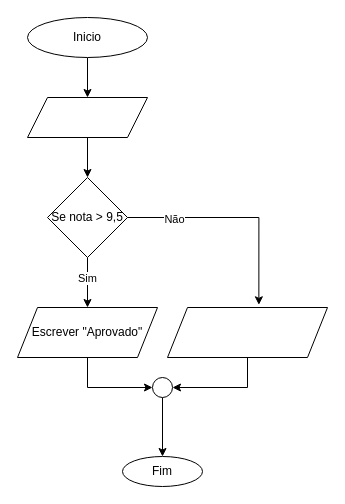
This 345x504 diagram has some shape labels left out. The shapes that lost their labels are listed below. From the top down, each one's centre as x and y in pixels, then its label:
point (87, 117): Ler nota
point (247, 332): Escrever "Reprovado"
